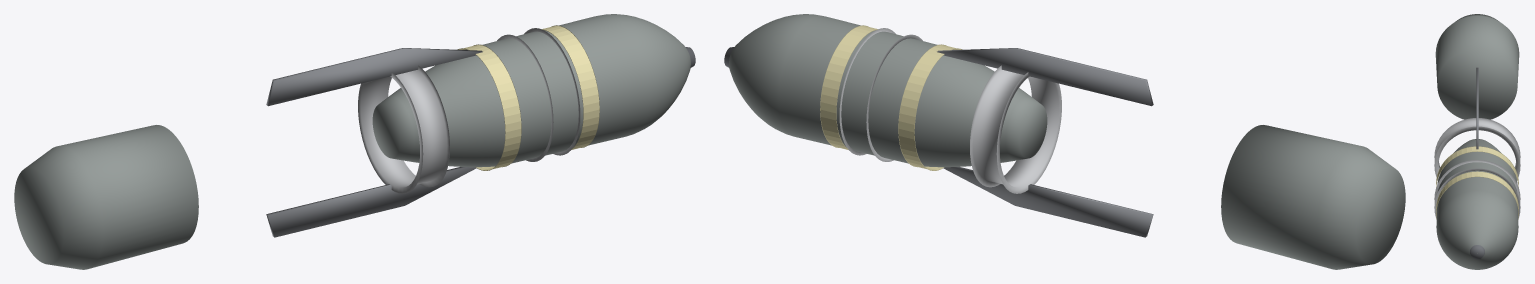
The model's file is RU_SLBM_R30_Bulava_LOD0.fbx.
3 renders of one model, left to right at view 1: azimuth 30°, elevation 25°; view 2: azimuth 150°, elevation 25°; view 3: azimuth 270°, elevation 25°, orthographic. The views are drawn at different scales.
Parts seen in each view (by area): view 1: WPN_RU_SLBM_R30_Bulava_LOD0_Body, WPN_RU_SLBM_R30_Bulava_LOD0_Tail, WPN_RU_SLBM_R30_Bulava_LOD0_Detail, WPN_RU_SLBM_R30_Bulava_LOD0_Marking; view 2: WPN_RU_SLBM_R30_Bulava_LOD0_Body, WPN_RU_SLBM_R30_Bulava_LOD0_Tail, WPN_RU_SLBM_R30_Bulava_LOD0_Detail, WPN_RU_SLBM_R30_Bulava_LOD0_Marking; view 3: WPN_RU_SLBM_R30_Bulava_LOD0_Body, WPN_RU_SLBM_R30_Bulava_LOD0_Tail, WPN_RU_SLBM_R30_Bulava_LOD0_Detail, WPN_RU_SLBM_R30_Bulava_LOD0_Marking, WPN_RU_SLBM_R30_Bulava_LOD0_Nose.
Boxes of the visible parts, x1=… form: WPN_RU_SLBM_R30_Bulava_LOD0_Body: x1=372, y1=14, x2=690, y2=167; WPN_RU_SLBM_R30_Bulava_LOD0_Tail: x1=14, y1=125, x2=198, y2=269; WPN_RU_SLBM_R30_Bulava_LOD0_Detail: x1=266, y1=28, x2=580, y2=237; WPN_RU_SLBM_R30_Bulava_LOD0_Marking: x1=457, y1=25, x2=599, y2=170; WPN_RU_SLBM_R30_Bulava_LOD0_Body: x1=729, y1=14, x2=1047, y2=167; WPN_RU_SLBM_R30_Bulava_LOD0_Tail: x1=1221, y1=125, x2=1405, y2=269; WPN_RU_SLBM_R30_Bulava_LOD0_Detail: x1=839, y1=28, x2=1153, y2=237; WPN_RU_SLBM_R30_Bulava_LOD0_Marking: x1=820, y1=25, x2=962, y2=170; WPN_RU_SLBM_R30_Bulava_LOD0_Body: x1=1436, y1=139, x2=1518, y2=269; WPN_RU_SLBM_R30_Bulava_LOD0_Tail: x1=1435, y1=14, x2=1519, y2=119; WPN_RU_SLBM_R30_Bulava_LOD0_Detail: x1=1434, y1=67, x2=1520, y2=217; WPN_RU_SLBM_R30_Bulava_LOD0_Marking: x1=1436, y1=146, x2=1518, y2=219; WPN_RU_SLBM_R30_Bulava_LOD0_Nose: x1=1470, y1=245, x2=1484, y2=259.
Bounding box in the file's own units: 12.1 × 2.1 × 2.78.
